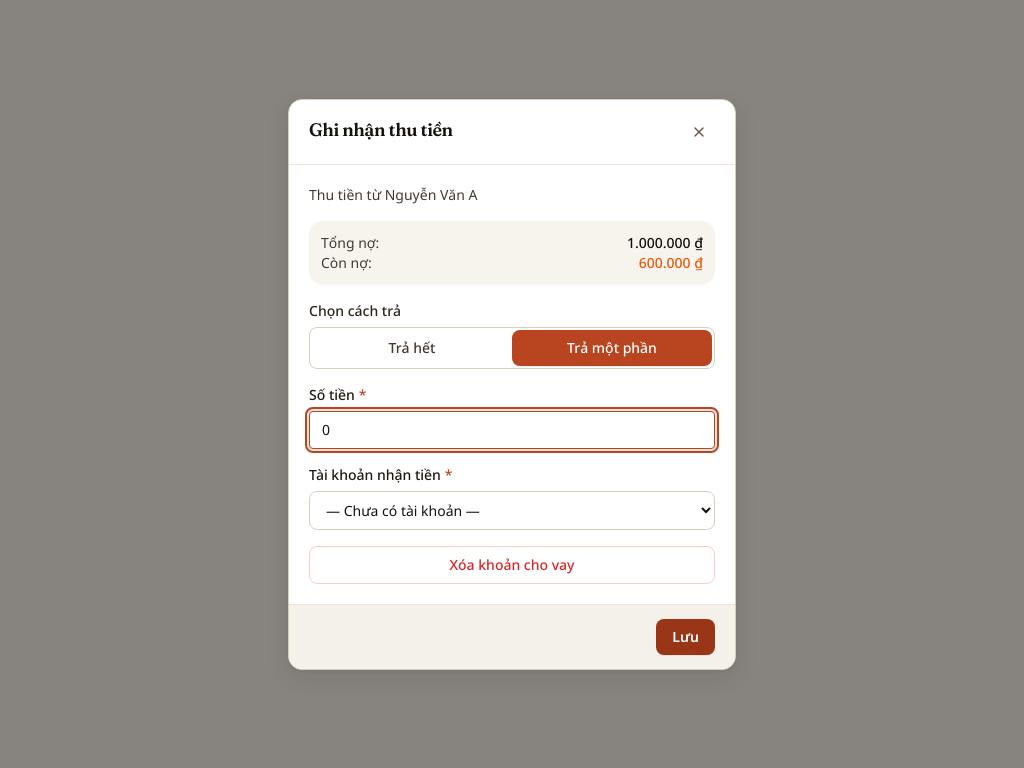
Test: PaymentModal › Click "Trả hết" auto-fill amount = remaining (formatted), disable input
The image size is (1024, 768).
What coordinates should you click on to do the following:
click the button "Trả hết"
I would click on:
 (412, 348)
Its box is [312,330,512,366].
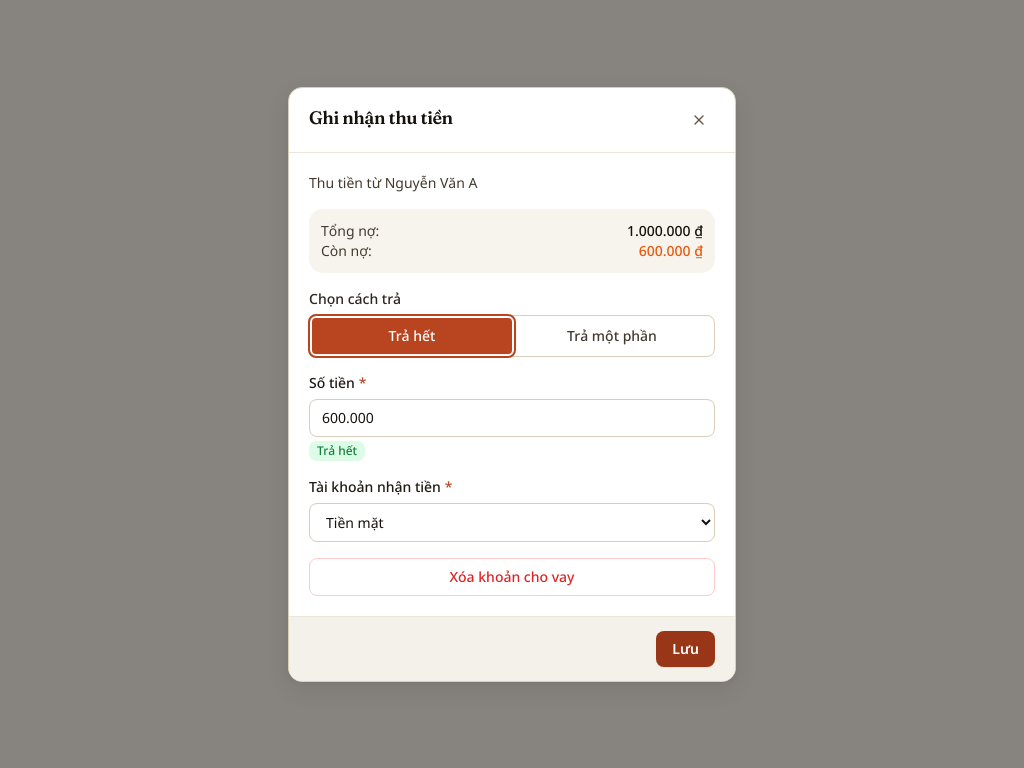
Result: the field holds "600.000" at [309,398,715,436]
Result: the field is disabled at [309,398,715,436]
